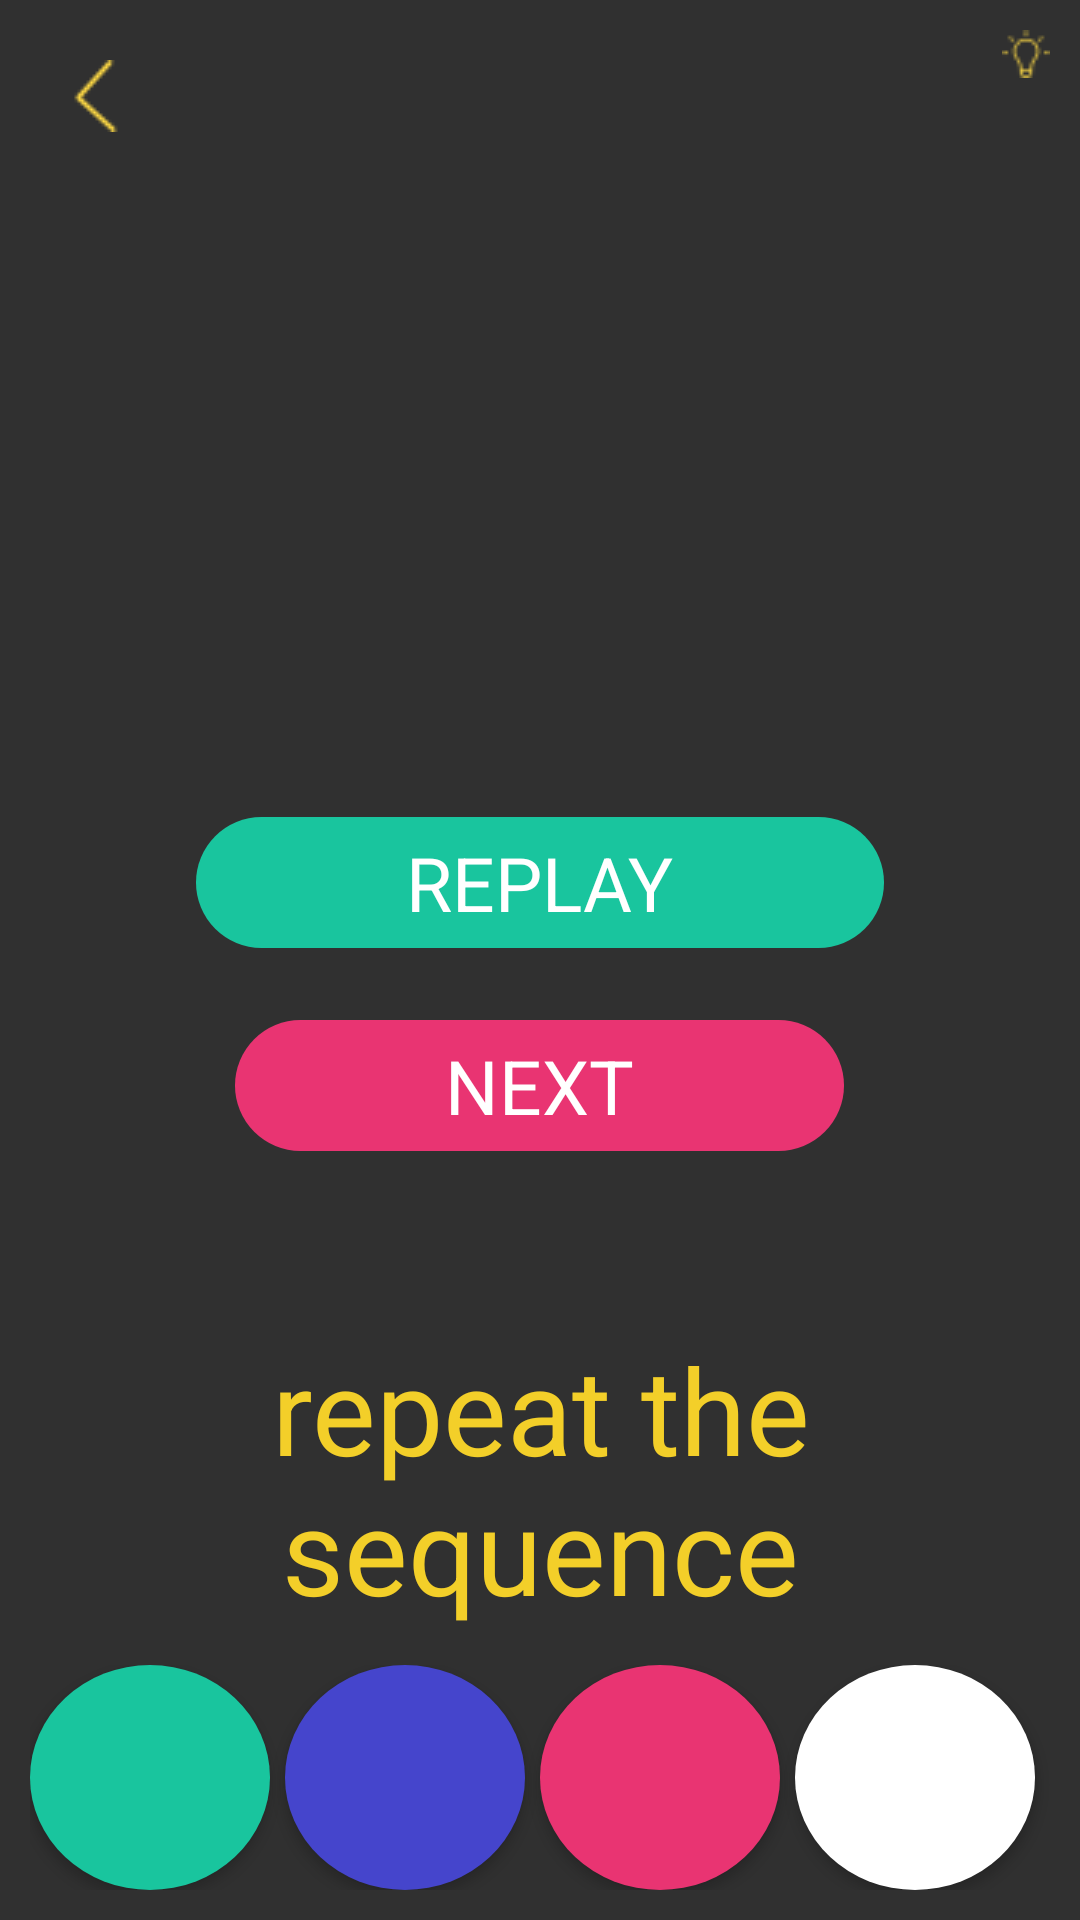

Where to tap for icons on this 1080×1920 app screen, as point (x, y):
arrow: point (95, 96)
lightbulb: point (1026, 54)
